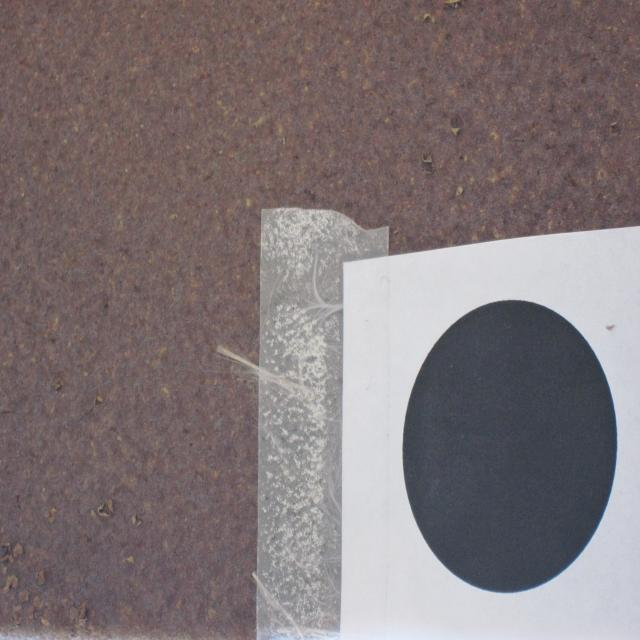non-corrosion: (395, 414, 505, 533), (264, 448, 374, 561), (528, 412, 640, 518), (266, 233, 372, 332), (489, 253, 568, 379), (385, 262, 466, 381), (278, 346, 378, 439), (258, 573, 383, 640), (583, 253, 640, 398), (406, 554, 492, 640), (528, 548, 607, 627)
